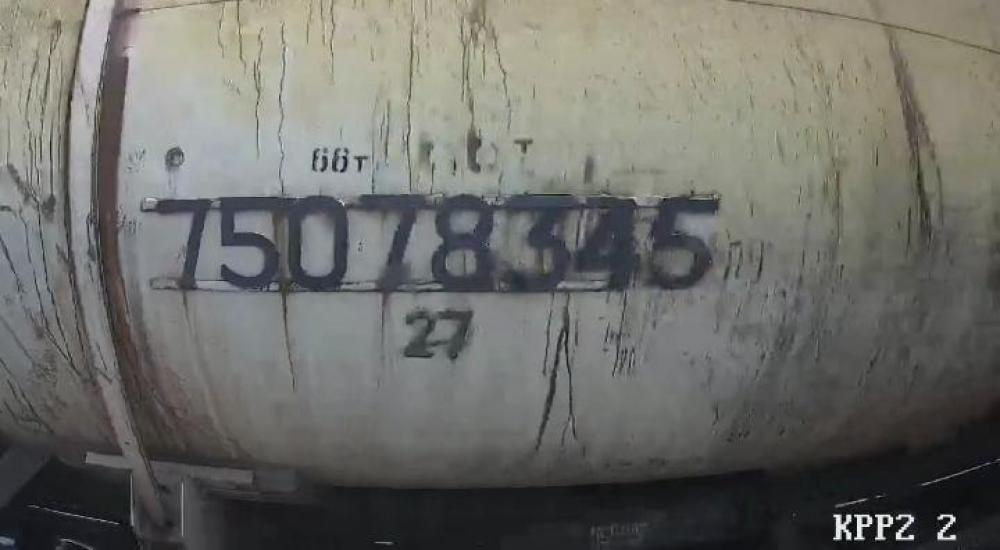Wagon-number: (152, 184, 722, 302)
